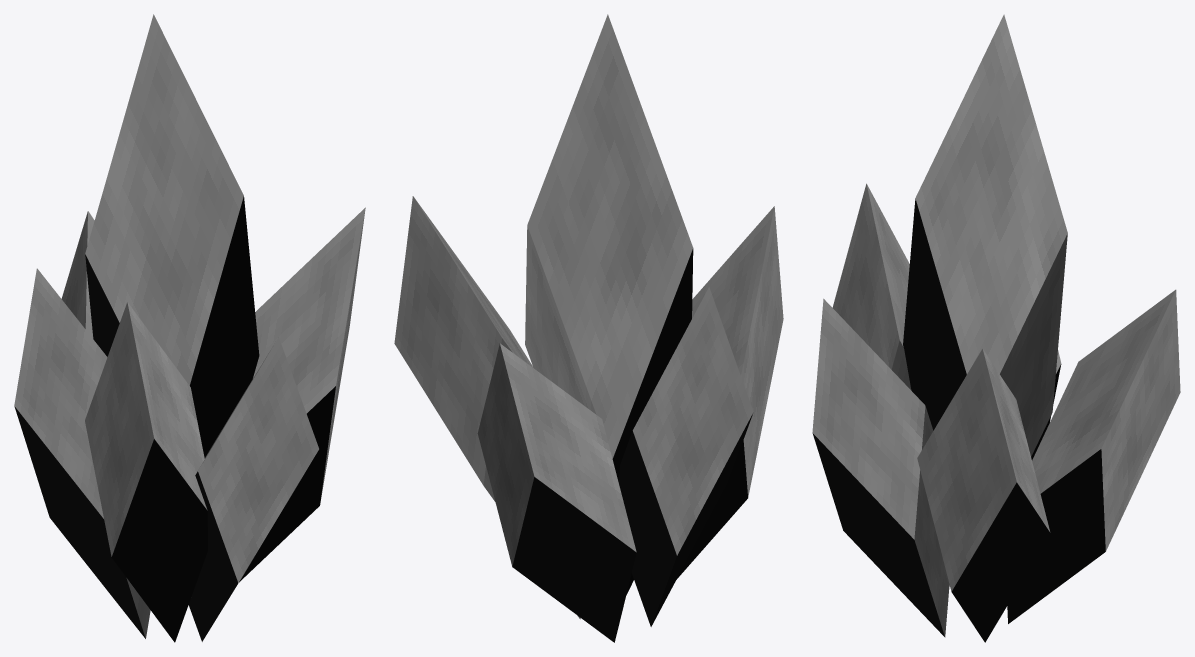
Rendered from entropy_crystal_cluster.obj.
3 renders of one model, left to right at view 1: azimuth 30°, elevation 25°; view 2: azimuth 150°, elevation 25°; view 3: azimuth 270°, elevation 25°, orthographic. The views are drawn at different scales.
Parts seen in each view (by area): view 1: part0, part4, part3, part5, part1, part2; view 2: part0, part2, part3, part1, part4; view 3: part0, part2, part5, part1, part4.
Boxes of the visible parts, bbox=[...] form: part0: bbox=[85, 14, 259, 457]; part4: bbox=[85, 302, 207, 642]; part3: bbox=[14, 268, 150, 638]; part5: bbox=[188, 337, 318, 641]; part1: bbox=[239, 207, 365, 582]; part2: bbox=[61, 211, 94, 338]; part0: bbox=[525, 14, 693, 482]; part2: bbox=[477, 343, 636, 642]; part3: bbox=[619, 287, 753, 626]; part1: bbox=[394, 196, 580, 619]; part4: bbox=[676, 206, 783, 579]; part0: bbox=[903, 14, 1067, 456]; part2: bbox=[1007, 289, 1180, 623]; part5: bbox=[812, 298, 949, 637]; part1: bbox=[917, 348, 1050, 642]; part4: bbox=[832, 183, 949, 586].
Size of the model in its own units: 0.6927 by 1.18 by 0.64.
